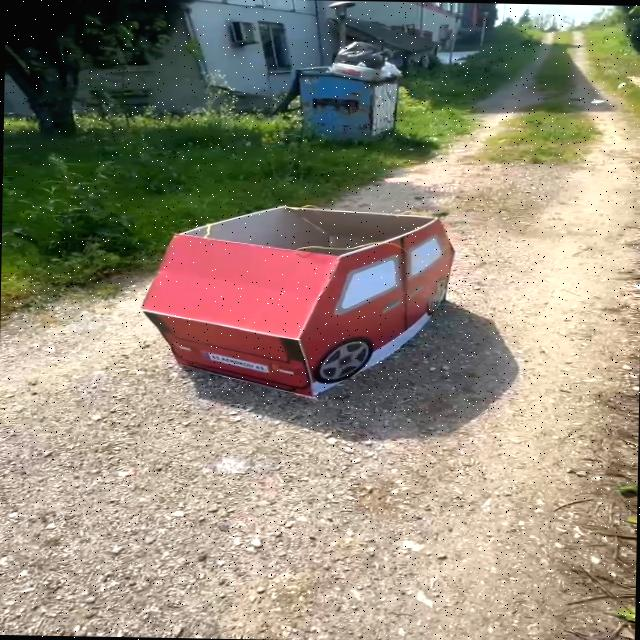red_car: (99, 179, 477, 421)
